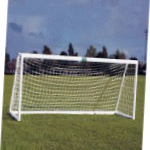goals: (7, 52, 141, 123)
